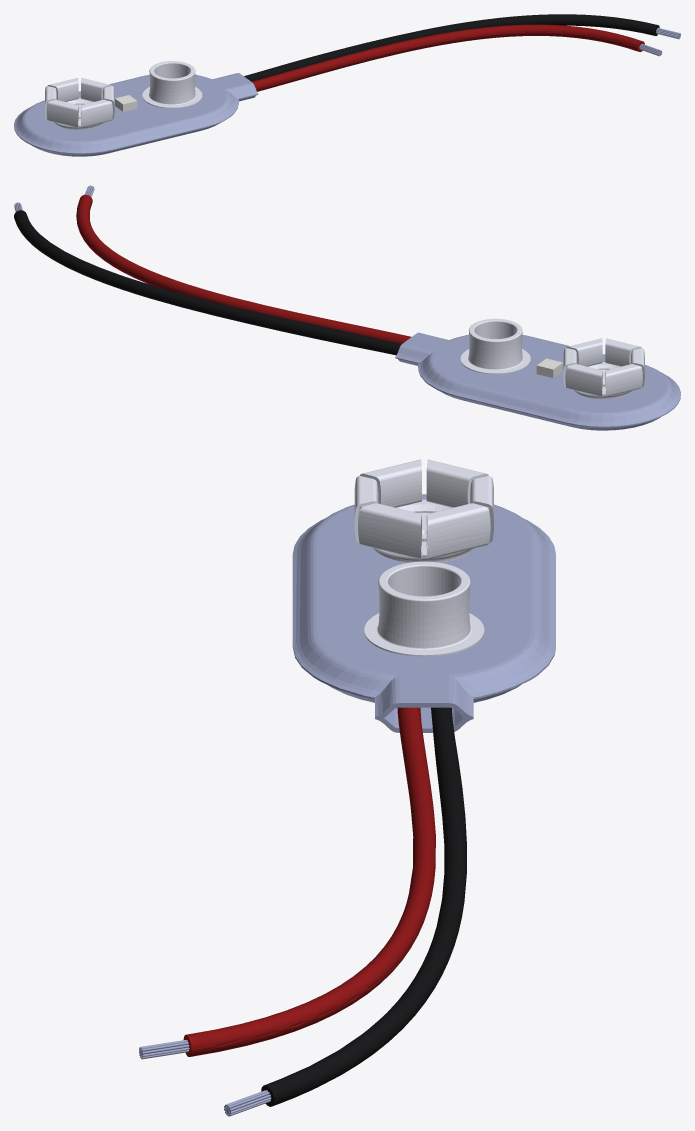
File: battery_connector.fbx
The picture shows the model from 3 angles, top to bottom: view 1: azimuth 30°, elevation 25°; view 2: azimuth 150°, elevation 25°; view 3: azimuth 270°, elevation 25°; orthographic projection. The views are drawn at different scales.
Parts seen in each view (by area): view 1: Shape_IndexedFaceSet.001, Shape_IndexedFaceSet, Shape_IndexedFaceSet.002, Cube; view 2: Shape_IndexedFaceSet.001, Shape_IndexedFaceSet, Shape_IndexedFaceSet.002, Cube; view 3: Shape_IndexedFaceSet.001, Shape_IndexedFaceSet, Shape_IndexedFaceSet.002.
Boxes of the visible parts, x1,y1,x2,y2 form: Shape_IndexedFaceSet.001: [14, 14, 680, 156]; Shape_IndexedFaceSet: [45, 77, 114, 129]; Shape_IndexedFaceSet.002: [142, 61, 202, 108]; Cube: [115, 95, 137, 111]; Shape_IndexedFaceSet.001: [14, 185, 680, 430]; Shape_IndexedFaceSet: [563, 338, 644, 399]; Shape_IndexedFaceSet.002: [460, 318, 530, 374]; Cube: [536, 358, 562, 378]; Shape_IndexedFaceSet.001: [139, 494, 555, 1116]; Shape_IndexedFaceSet: [354, 459, 493, 562]; Shape_IndexedFaceSet.002: [364, 561, 484, 656].
Bounding box in the file's own units: 8551 × 640 × 2533.
